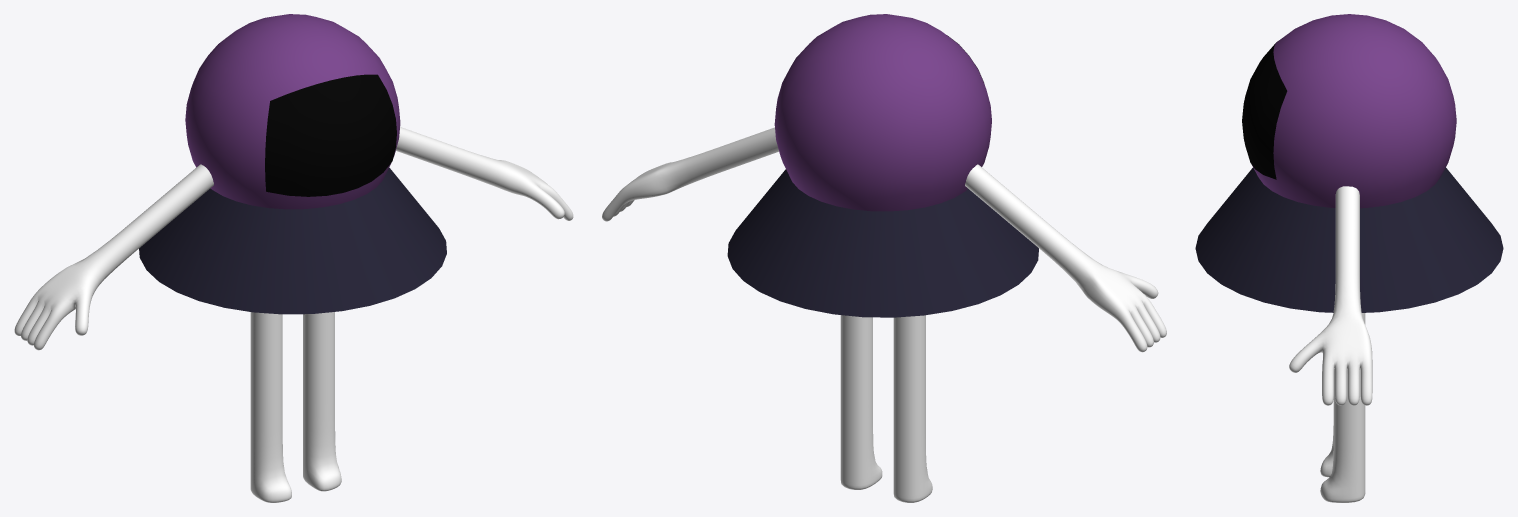
Rendered from Karen.fbx.
3 views of the same model, side by side, from view 1: azimuth 30°, elevation 25°; view 2: azimuth 150°, elevation 25°; view 3: azimuth 270°, elevation 25° (orthographic).
Parts seen in each view (by area): view 1: Karen, Karen.001, Arms.011, Legs.011, Legs.004, Arms.004; view 2: Karen, Arms.011, Legs.011, Legs.004, Arms.004; view 3: Karen, Arms.004, Legs.004, Karen.001.
Boxes of the visible parts, x1,y1,x2,y2 form: Karen: [139, 14, 446, 314]; Karen.001: [265, 74, 396, 196]; Arms.011: [14, 164, 213, 350]; Legs.011: [250, 312, 291, 502]; Legs.004: [303, 312, 341, 491]; Arms.004: [396, 127, 573, 220]; Karen: [727, 14, 1038, 317]; Arms.011: [965, 164, 1166, 352]; Legs.011: [893, 315, 932, 502]; Legs.004: [840, 315, 882, 489]; Arms.004: [602, 127, 778, 221]; Karen: [1195, 14, 1503, 312]; Arms.004: [1289, 186, 1372, 405]; Legs.004: [1320, 313, 1365, 502]; Karen.001: [1242, 41, 1287, 179].
Bounding box in the file's own units: 2.82 × 1.4 × 2.32.
